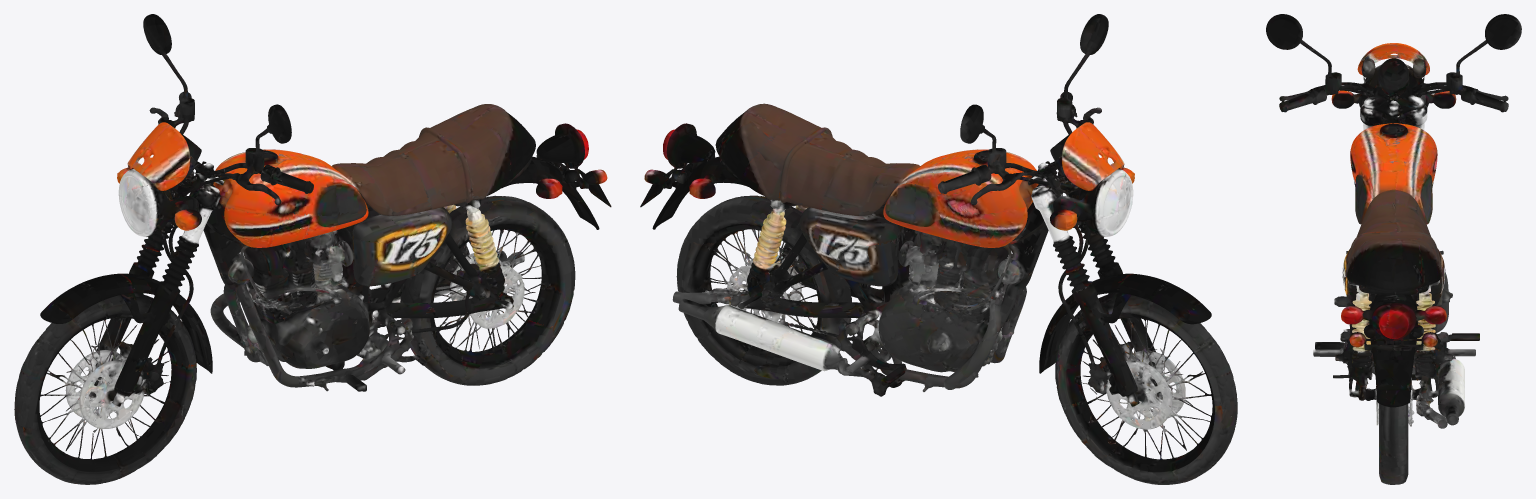
The model's file is orange.glb.
The picture shows the model from 3 angles, left to right: view 1: azimuth 30°, elevation 25°; view 2: azimuth 150°, elevation 25°; view 3: azimuth 270°, elevation 25°; orthographic projection. The views are drawn at different scales.
Bounding box in the file's own units: 1.9 × 1.22 × 0.8039.
1 material, 1 textured.
